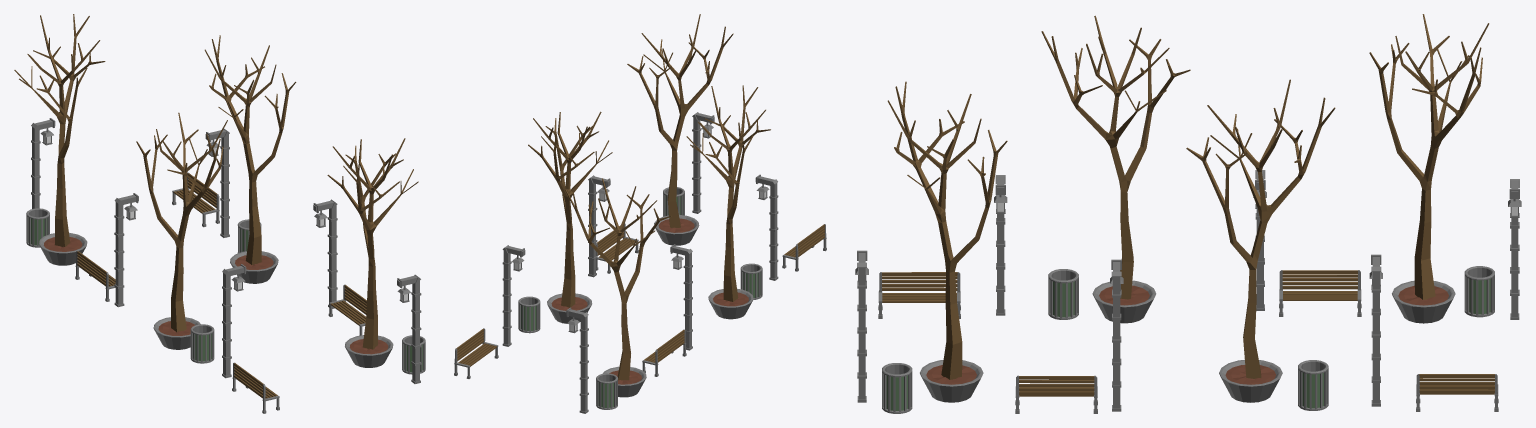
The model's file is PropsProjectVrij.fbx.
3 views of the same model, side by side, from view 1: azimuth 30°, elevation 25°; view 2: azimuth 150°, elevation 25°; view 3: azimuth 270°, elevation 25° (orthographic). The views are drawn at different scales.
Parts seen in each view (by area): view 1: tree.001, Tree, tree.002, tree, Lantern, Lantern.004, Lantern.001, Lantern.002, Lantern.003, Lantern.005, Trashcan, Bench (+6 smaller); view 2: tree.001, tree, Tree, tree.002, Lantern.004, Lantern.005, Lantern.003, Lantern.001, Bench.001, Lantern, Lantern.002, Trashcan.002 (+6 smaller); view 3: tree.002, tree, Tree, tree.001, Bench.002, Bench.003, Bench.001, Bench, Trashcan.003, Trashcan.001, Trashcan, Trashcan.002 (+6 smaller).
Part boxes in pixels (x1,y1,x2,y2): tree.001: [136, 112, 227, 349]; Tree: [204, 35, 296, 283]; tree.002: [14, 14, 105, 265]; tree: [327, 138, 418, 367]; Lantern: [114, 193, 138, 307]; Lantern.004: [222, 264, 246, 378]; Lantern.001: [397, 274, 421, 383]; Lantern.002: [313, 199, 337, 308]; Lantern.003: [205, 128, 229, 237]; Lantern.005: [31, 118, 55, 208]; Trashcan: [190, 324, 214, 363]; Bench: [328, 284, 366, 335]; tree.001: [686, 85, 770, 319]; tree: [627, 14, 733, 245]; Tree: [528, 111, 612, 323]; tree.002: [565, 178, 671, 397]; Lantern.004: [755, 174, 778, 280]; Lantern.005: [566, 307, 588, 413]; Lantern.003: [502, 245, 525, 346]; Lantern.001: [692, 112, 714, 213]; Bench.001: [454, 328, 498, 378]; Lantern: [670, 244, 692, 350]; Lantern.002: [588, 175, 610, 277]; Trashcan.002: [518, 296, 540, 333]; tree.002: [1369, 14, 1489, 323]; tree: [887, 81, 1007, 402]; Tree: [1186, 79, 1335, 402]; tree.001: [1041, 15, 1190, 323]; Bench.002: [1279, 270, 1361, 316]; Bench.003: [878, 272, 960, 318]; Bench.001: [1416, 374, 1498, 411]; Bench: [1015, 375, 1097, 413]; Trashcan.003: [1464, 266, 1494, 317]; Trashcan.001: [882, 363, 912, 413]; Trashcan: [1048, 269, 1078, 319]; Trashcan.002: [1298, 360, 1328, 410].
Bounding box in the file's own units: 2019 × 2126 × 4379.
